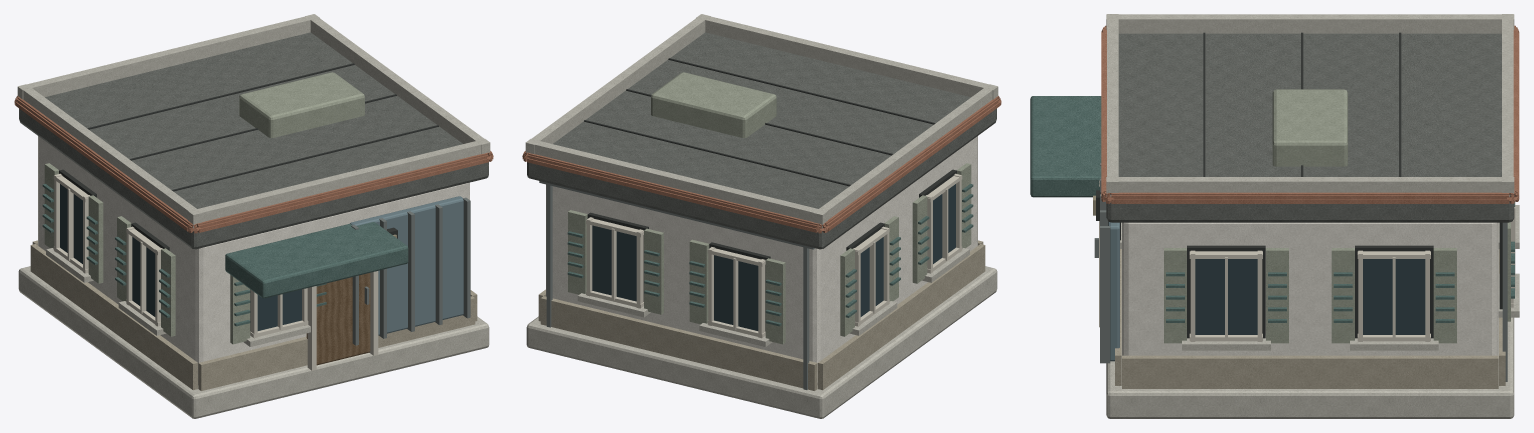
Rendered from RES_LOW_1x1_008.glb.
3 views of the same model, side by side, from view 1: azimuth 30°, elevation 25°; view 2: azimuth 150°, elevation 25°; view 3: azimuth 270°, elevation 25° (orthographic). The views are drawn at different scales.
Parts seen in each view (by area): view 1: RES_LOW_1x1_008_Visual; view 2: RES_LOW_1x1_008_Visual; view 3: RES_LOW_1x1_008_Visual.
Part boxes in pixels (x1,y1,x2,y2): RES_LOW_1x1_008_Visual: (14,14,493,418); RES_LOW_1x1_008_Visual: (522,14,1001,418); RES_LOW_1x1_008_Visual: (1030,14,1519,418).
Size of what is drawn, in the model's own units: 1.58 by 1.06 by 1.9.
14 materials, 8 textured.
